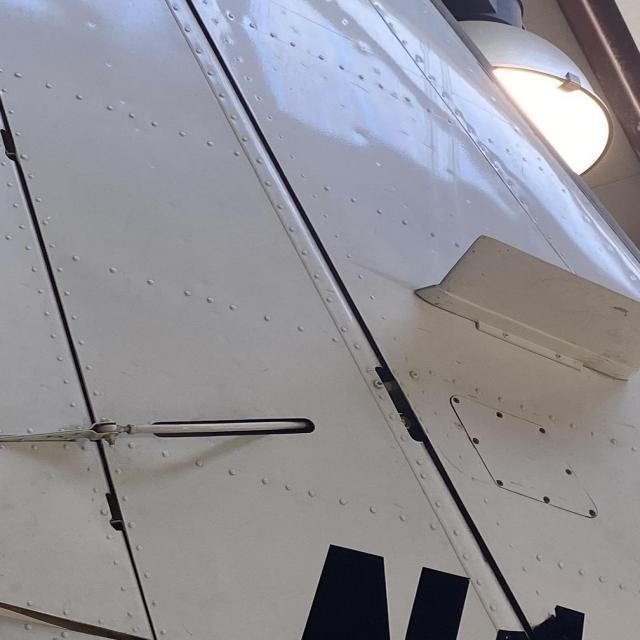Paint-off: (609, 307, 628, 319)
